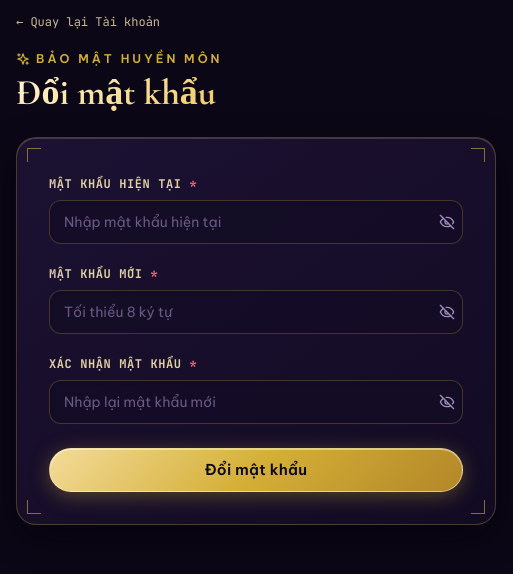
Test: ChangePassword Page › should show server VALIDATION_ERROR field messages under the matching field
In the password field labelled "Mật khẩu hiện tại": (256, 222) [49, 200, 463, 244], type "OldPassword123"
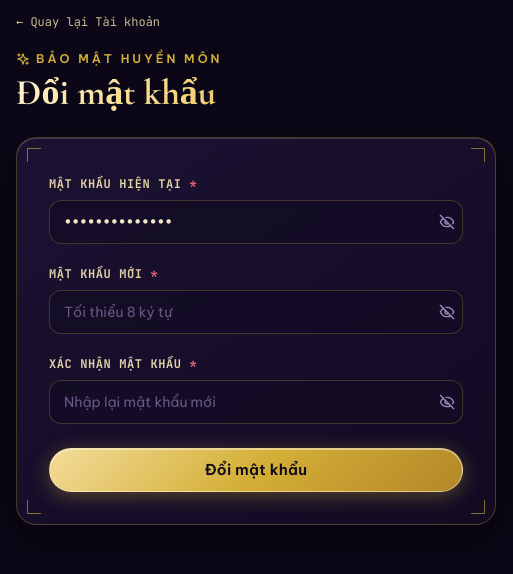
In the password field labelled "Mật khẩu mới": (256, 312) [49, 290, 463, 334], type "me@example.com"
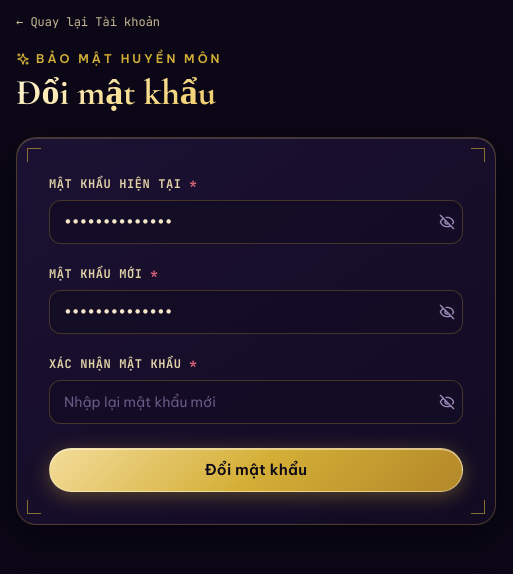
In the password field labelled "Xác nhận mật khẩu": (256, 402) [49, 380, 463, 424], type "me@example.com"
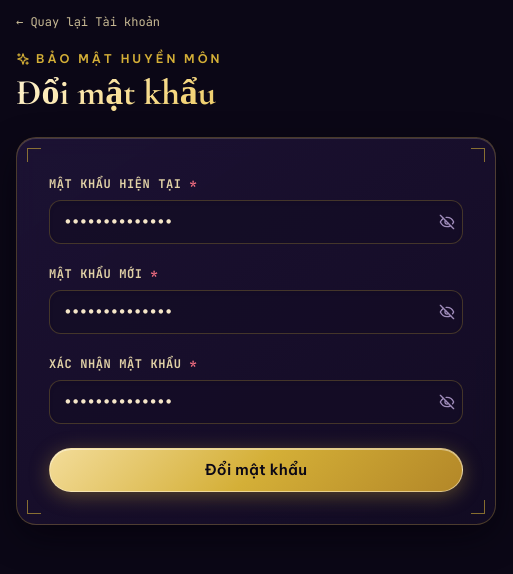
Click the button "Đổi mật khẩu": (256, 470) [49, 448, 463, 492]
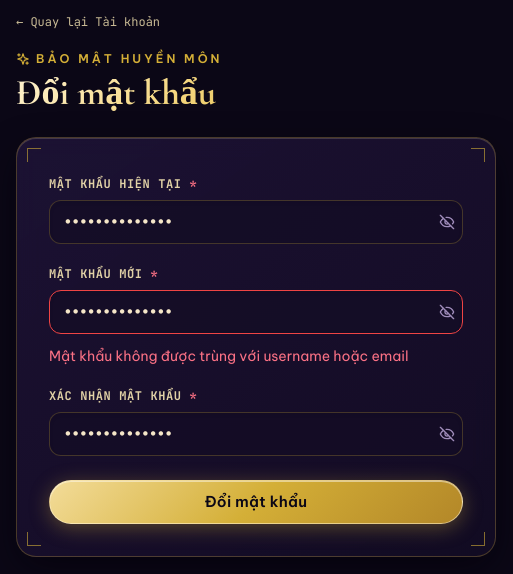
Now the text "Mật khẩu không được trùng với username hoặc email" is shown, box [49, 346, 408, 366]
